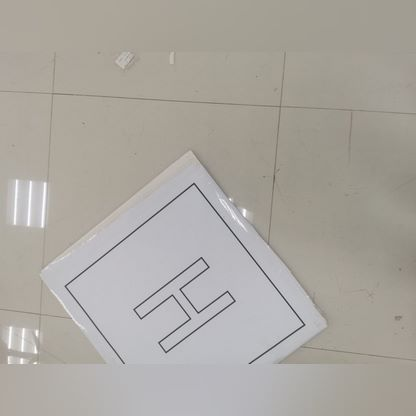H: (133, 240, 248, 361)
